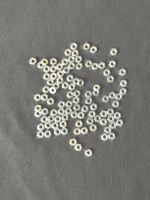nut: (85, 149, 93, 158), (70, 139, 78, 147), (37, 131, 45, 139), (61, 128, 69, 136), (54, 128, 62, 136), (78, 112, 86, 120), (58, 108, 66, 116), (41, 108, 49, 116), (120, 88, 128, 96), (47, 98, 55, 106), (41, 94, 49, 102), (85, 60, 93, 68), (43, 73, 51, 81), (50, 58, 58, 66), (75, 145, 83, 152), (109, 133, 116, 141), (102, 134, 109, 142), (44, 131, 52, 138), (90, 125, 98, 132), (81, 128, 89, 135), (74, 128, 81, 136), (76, 121, 84, 128), (110, 122, 117, 130), (116, 120, 124, 127), (60, 121, 67, 129), (45, 122, 52, 130), (87, 118, 95, 125), (100, 119, 108, 126), (108, 116, 116, 123), (115, 112, 122, 120), (107, 109, 115, 116), (89, 111, 97, 118), (71, 112, 79, 119), (48, 115, 55, 123), (41, 116, 48, 124), (65, 108, 73, 115), (51, 109, 58, 117), (58, 101, 66, 108), (112, 101, 120, 108), (85, 91, 93, 98), (110, 92, 117, 100), (116, 93, 123, 101), (120, 80, 128, 87), (74, 90, 81, 98), (67, 91, 74, 99), (34, 94, 41, 102), (43, 86, 50, 94), (47, 79, 55, 86), (62, 82, 69, 90), (67, 75, 75, 82), (107, 76, 115, 83), (104, 69, 111, 77), (120, 69, 127, 77), (109, 61, 117, 68), (99, 62, 106, 70), (92, 63, 99, 71), (91, 46, 98, 54), (84, 43, 91, 51), (76, 63, 84, 70), (63, 67, 71, 74), (68, 63, 76, 70), (43, 66, 51, 73), (41, 59, 49, 66), (50, 65, 57, 73), (56, 63, 64, 70), (68, 56, 76, 63), (72, 50, 80, 57), (105, 127, 112, 134), (52, 123, 59, 130), (38, 124, 45, 131), (95, 116, 102, 123), (101, 111, 108, 118), (62, 114, 69, 121), (55, 116, 62, 123), (35, 105, 42, 112), (82, 106, 89, 113), (74, 104, 81, 111), (66, 101, 73, 108), (91, 104, 98, 111), (86, 98, 93, 105), (94, 85, 101, 92), (103, 96, 110, 103), (73, 97, 80, 104), (50, 87, 57, 94), (53, 83, 60, 90), (69, 84, 76, 91), (78, 80, 85, 87), (73, 78, 80, 85), (57, 77, 64, 84), (111, 49, 118, 56), (76, 56, 83, 63), (51, 73, 58, 80), (30, 58, 37, 65), (38, 62, 45, 69), (62, 59, 69, 66), (65, 49, 72, 56), (71, 43, 78, 50), (57, 71, 65, 77), (35, 112, 42, 118), (93, 91, 101, 96)
